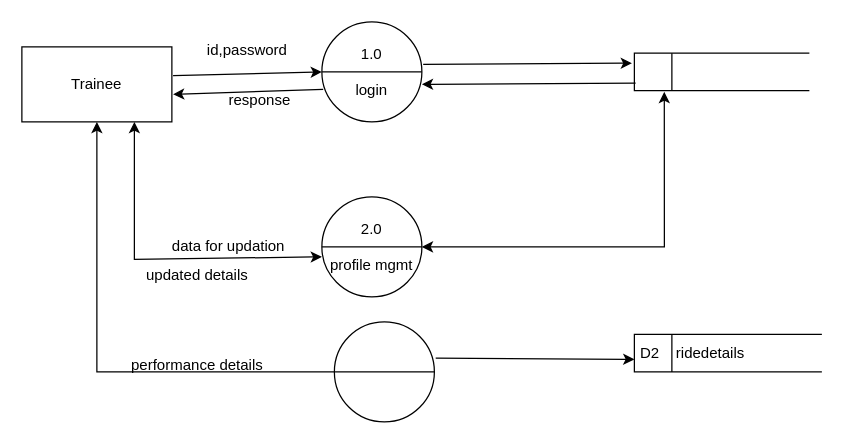
The diagram is 844 pixels wide and 444 high, and some of its shapes have lost their labels. Each missing label, with the box of its shape:
3.0 performance tracking: (333, 321, 434, 422)
D1 admissiondetails: (633, 52, 809, 91)
